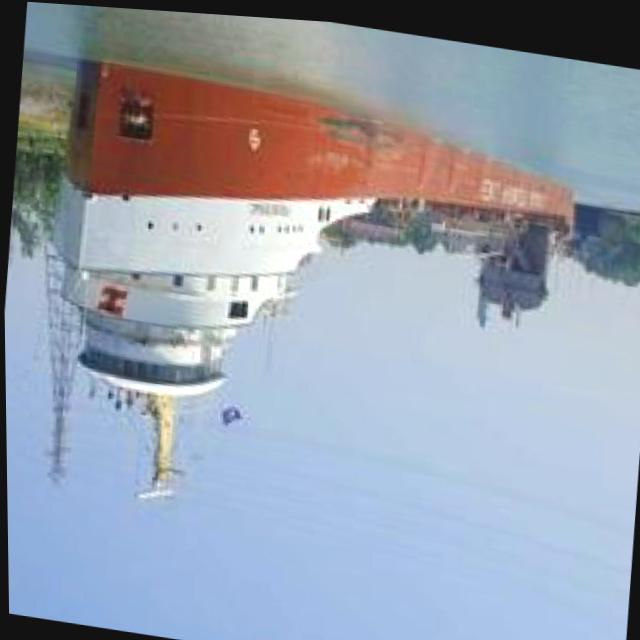ship2: (52, 55, 573, 492)
